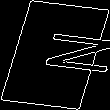N_W: (10, 30, 100, 80)
